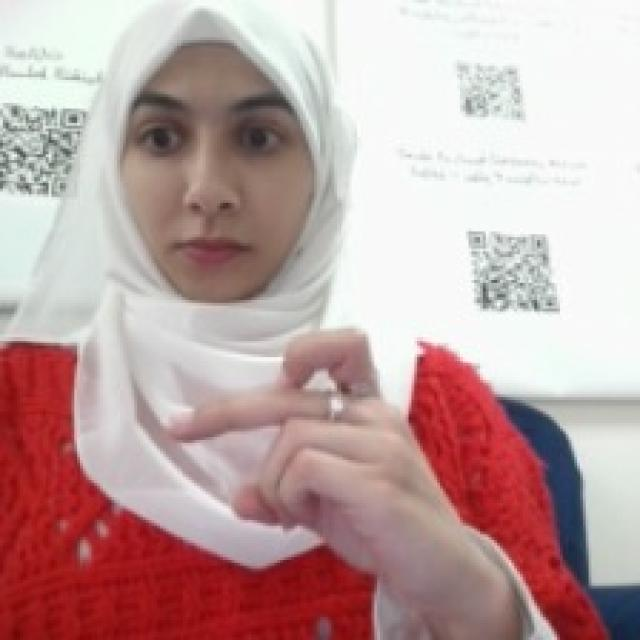sunday: (157, 314, 454, 563)
